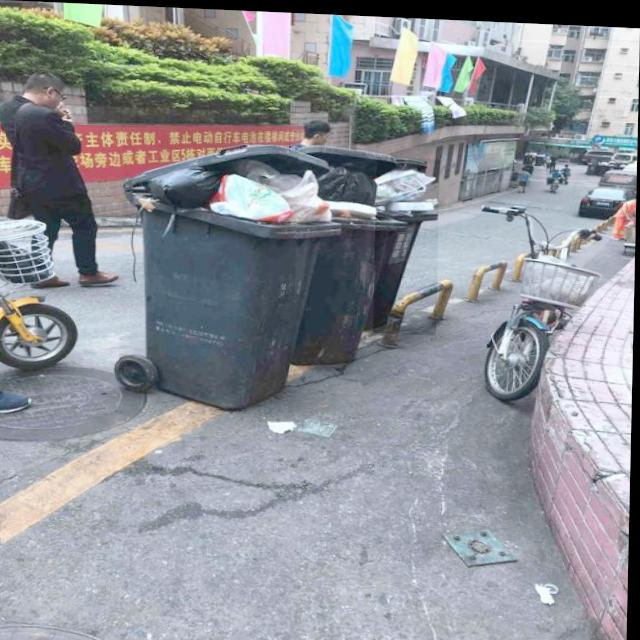overflow: (120, 138, 342, 412), (295, 143, 406, 366), (375, 153, 440, 331)
